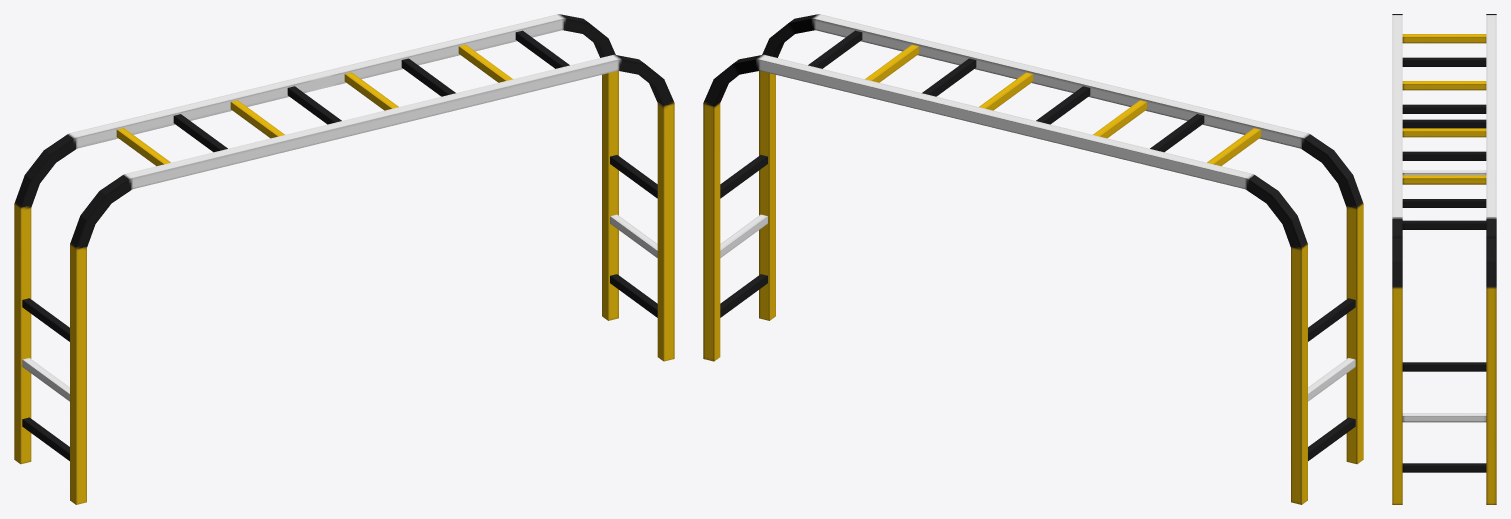
Rendered from monkeyBars.fbx.
3 renders of one model, left to right at view 1: azimuth 30°, elevation 25°; view 2: azimuth 150°, elevation 25°; view 3: azimuth 270°, elevation 25°, orthographic. The views are drawn at different scales.
Visible parts, largest first — view 1: monkey_bars; view 2: monkey_bars; view 3: monkey_bars.
Boxes of the visible parts, x1,y1,x2,y2 form: monkey_bars: [14, 14, 674, 504]; monkey_bars: [703, 14, 1363, 504]; monkey_bars: [1392, 14, 1496, 504].
Bounding box in the file's own units: 168 × 84 × 30.
1 material, 1 textured.
